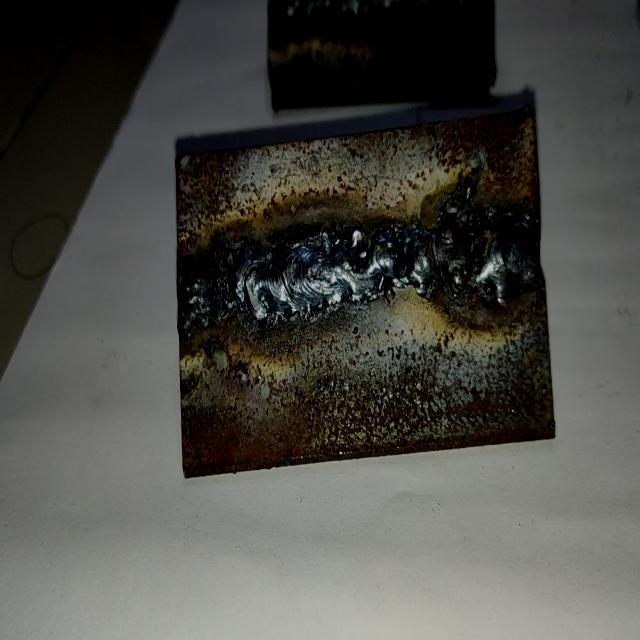Defect: (361, 221, 547, 300), (181, 240, 266, 330)
Welding Line: (181, 222, 538, 329)
Workpiece: (171, 95, 564, 482)
